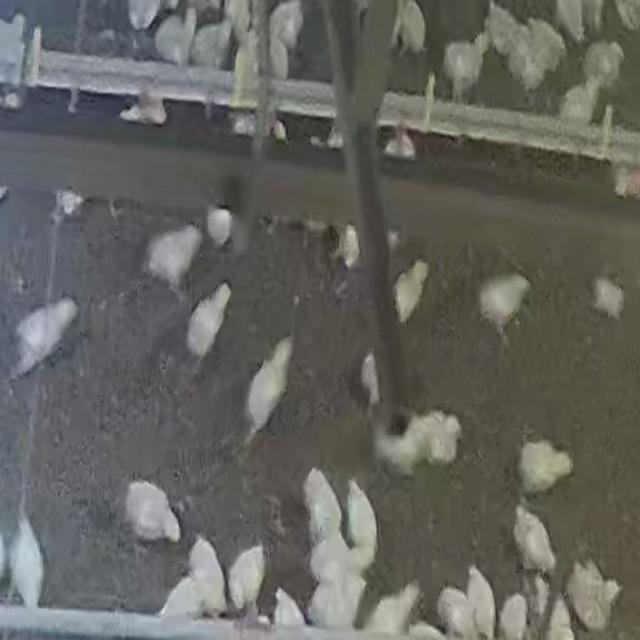chicken: (373, 408, 464, 477), (241, 335, 295, 447), (11, 296, 78, 376), (122, 477, 182, 545), (565, 558, 618, 629), (477, 272, 533, 339), (185, 282, 233, 358), (146, 224, 202, 288), (313, 524, 375, 581), (516, 436, 573, 494), (342, 479, 383, 559), (441, 36, 488, 104), (302, 466, 343, 543), (362, 582, 421, 634), (188, 534, 224, 619), (517, 16, 564, 81), (513, 506, 558, 573), (312, 574, 367, 628), (227, 542, 267, 610), (392, 258, 430, 323), (559, 76, 603, 132), (390, 0, 430, 57), (465, 565, 497, 635), (153, 12, 196, 64), (190, 21, 231, 68), (484, 1, 520, 54), (584, 38, 624, 85), (437, 584, 469, 640), (270, 2, 304, 52), (589, 274, 625, 318), (497, 591, 529, 640), (160, 581, 202, 618), (544, 597, 575, 639)
